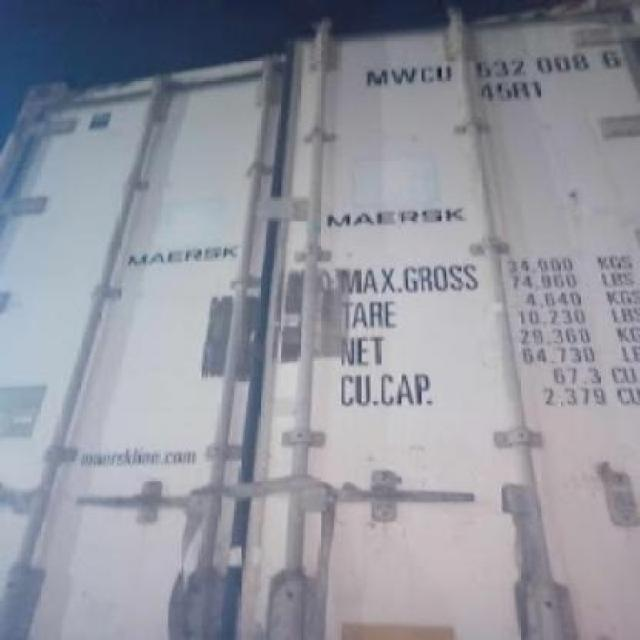ISO: (481, 78, 546, 102)
container_number: (364, 39, 626, 90)
